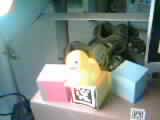duck: (57, 45, 100, 85)
